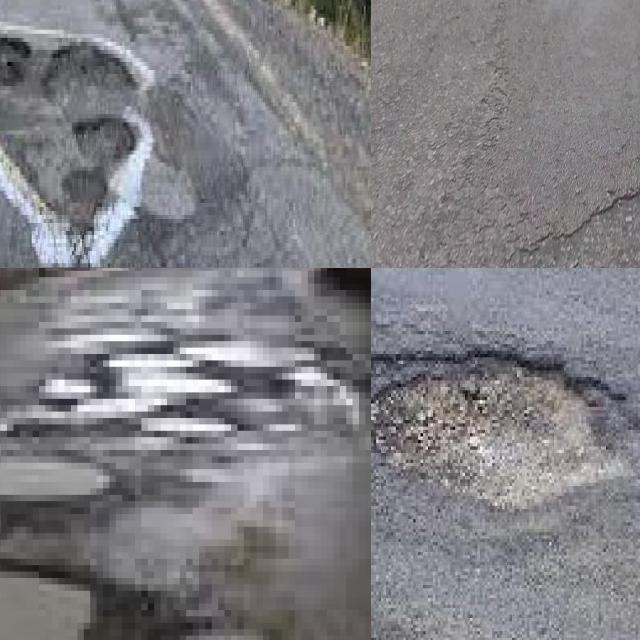Pothole: (0, 335, 308, 504), (371, 338, 640, 519), (0, 24, 151, 265), (371, 365, 618, 509), (42, 42, 142, 235), (72, 117, 135, 167), (0, 38, 32, 86)
